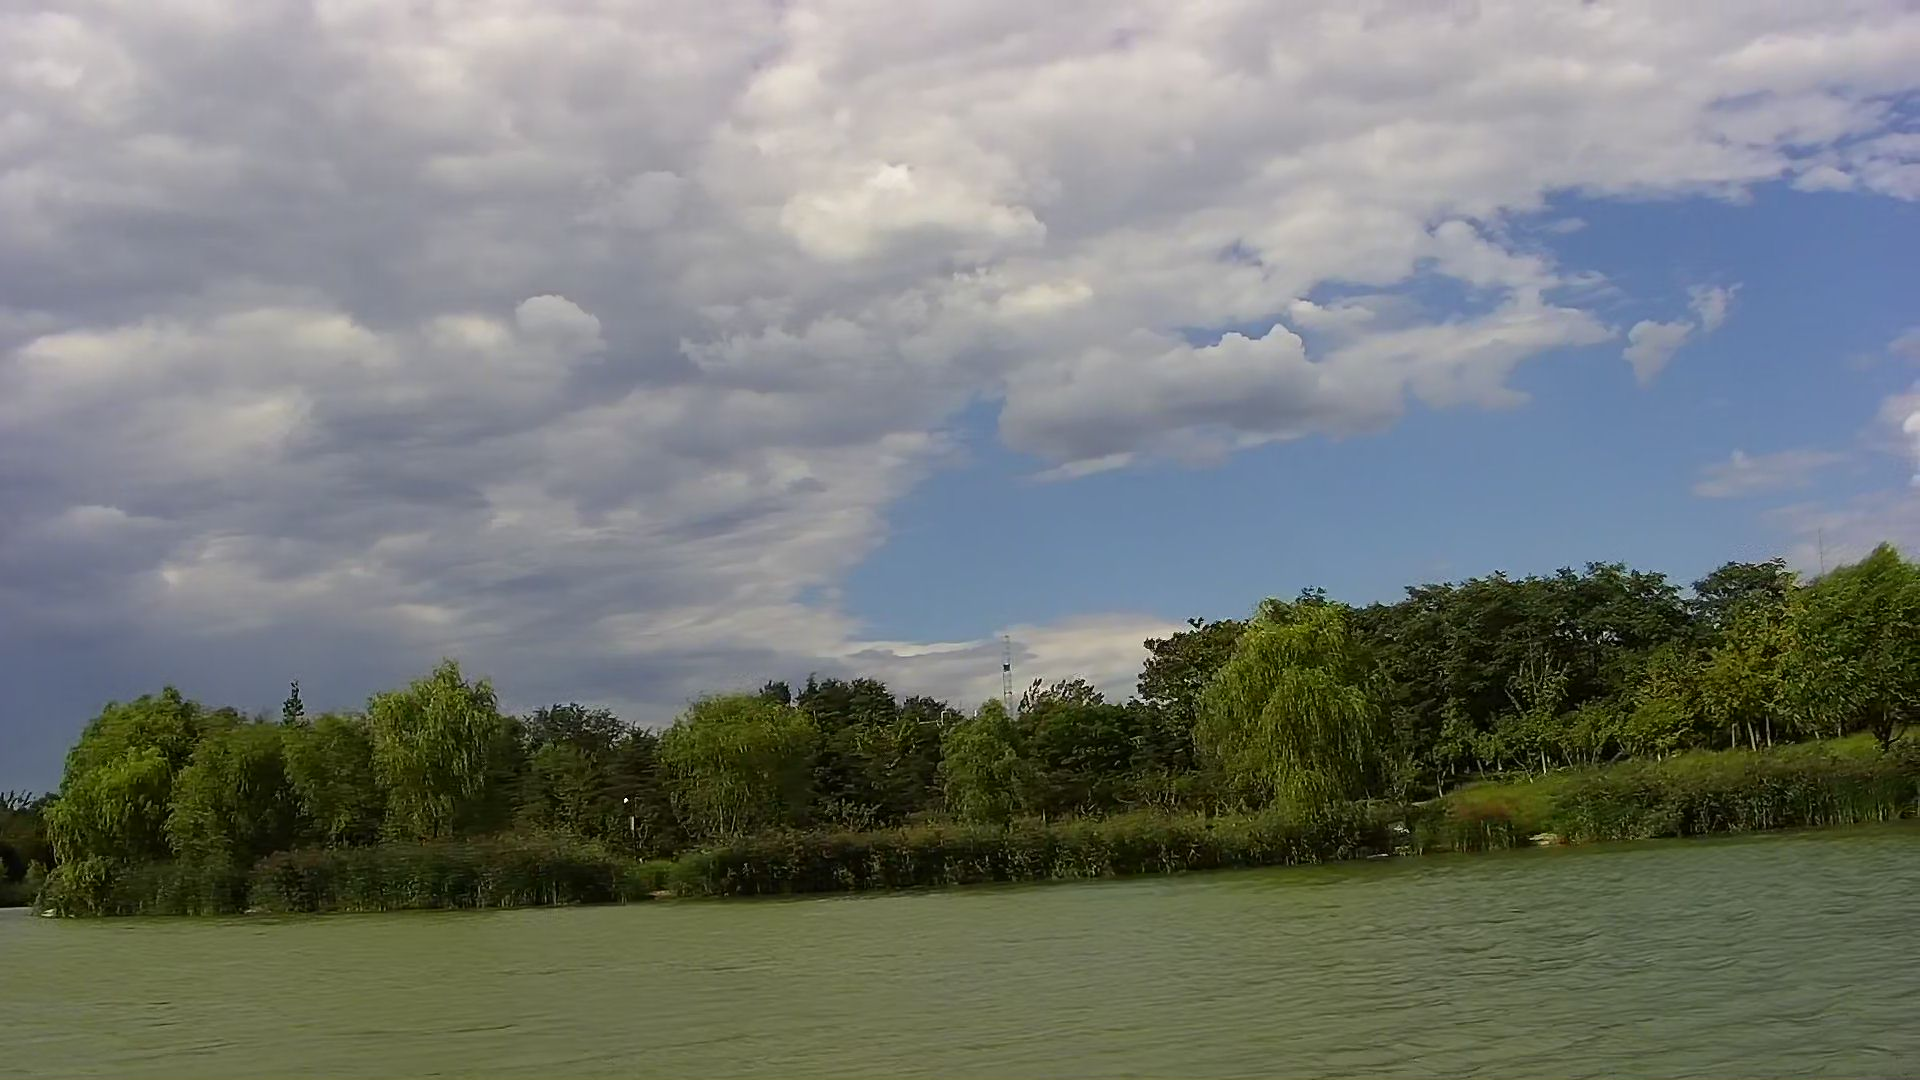rock: (1524, 829, 1563, 851)
